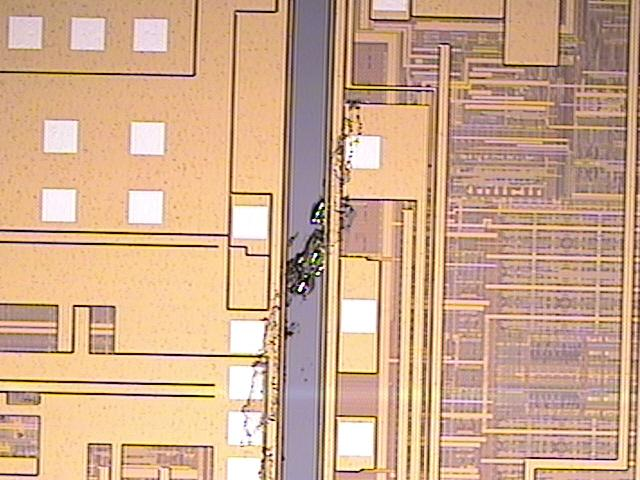SCRATCH: (238, 86, 373, 480)
